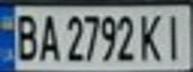2: (60, 10, 84, 63), (115, 10, 139, 63)
7: (81, 10, 100, 62)
9: (100, 11, 121, 63)
A: (36, 10, 60, 63)
B: (9, 9, 42, 62)
I: (160, 9, 190, 62)
K: (136, 10, 166, 63)
